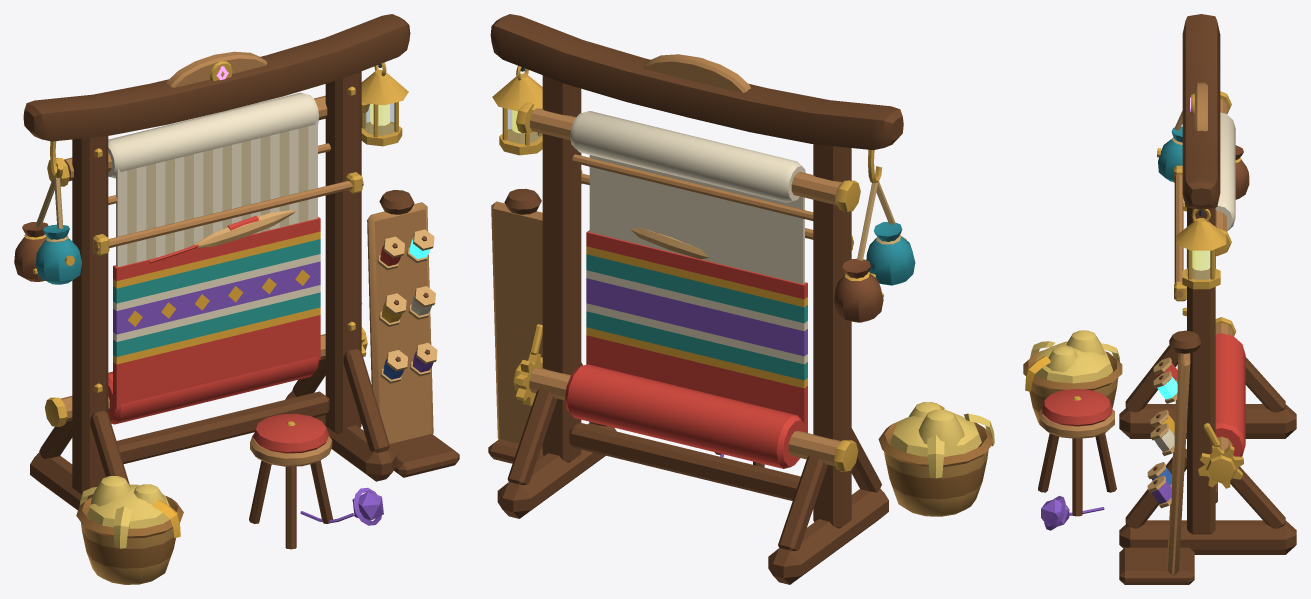
File: prop_loom.glb
3 renders of one model, left to right at view 1: azimuth 30°, elevation 25°; view 2: azimuth 150°, elevation 25°; view 3: azimuth 270°, elevation 25°, orthographic. The views are drawn at different scales.
Parts seen in each view (by area): view 1: Loom; view 2: Loom; view 3: Loom.
Part boxes in pixels (x1,y1,x2,y2): Loom: [14, 14, 459, 584]; Loom: [488, 14, 994, 584]; Loom: [1023, 14, 1296, 584].
Size of what is drawn, in the model's own units: 1.98 by 2.01 by 1.23.
